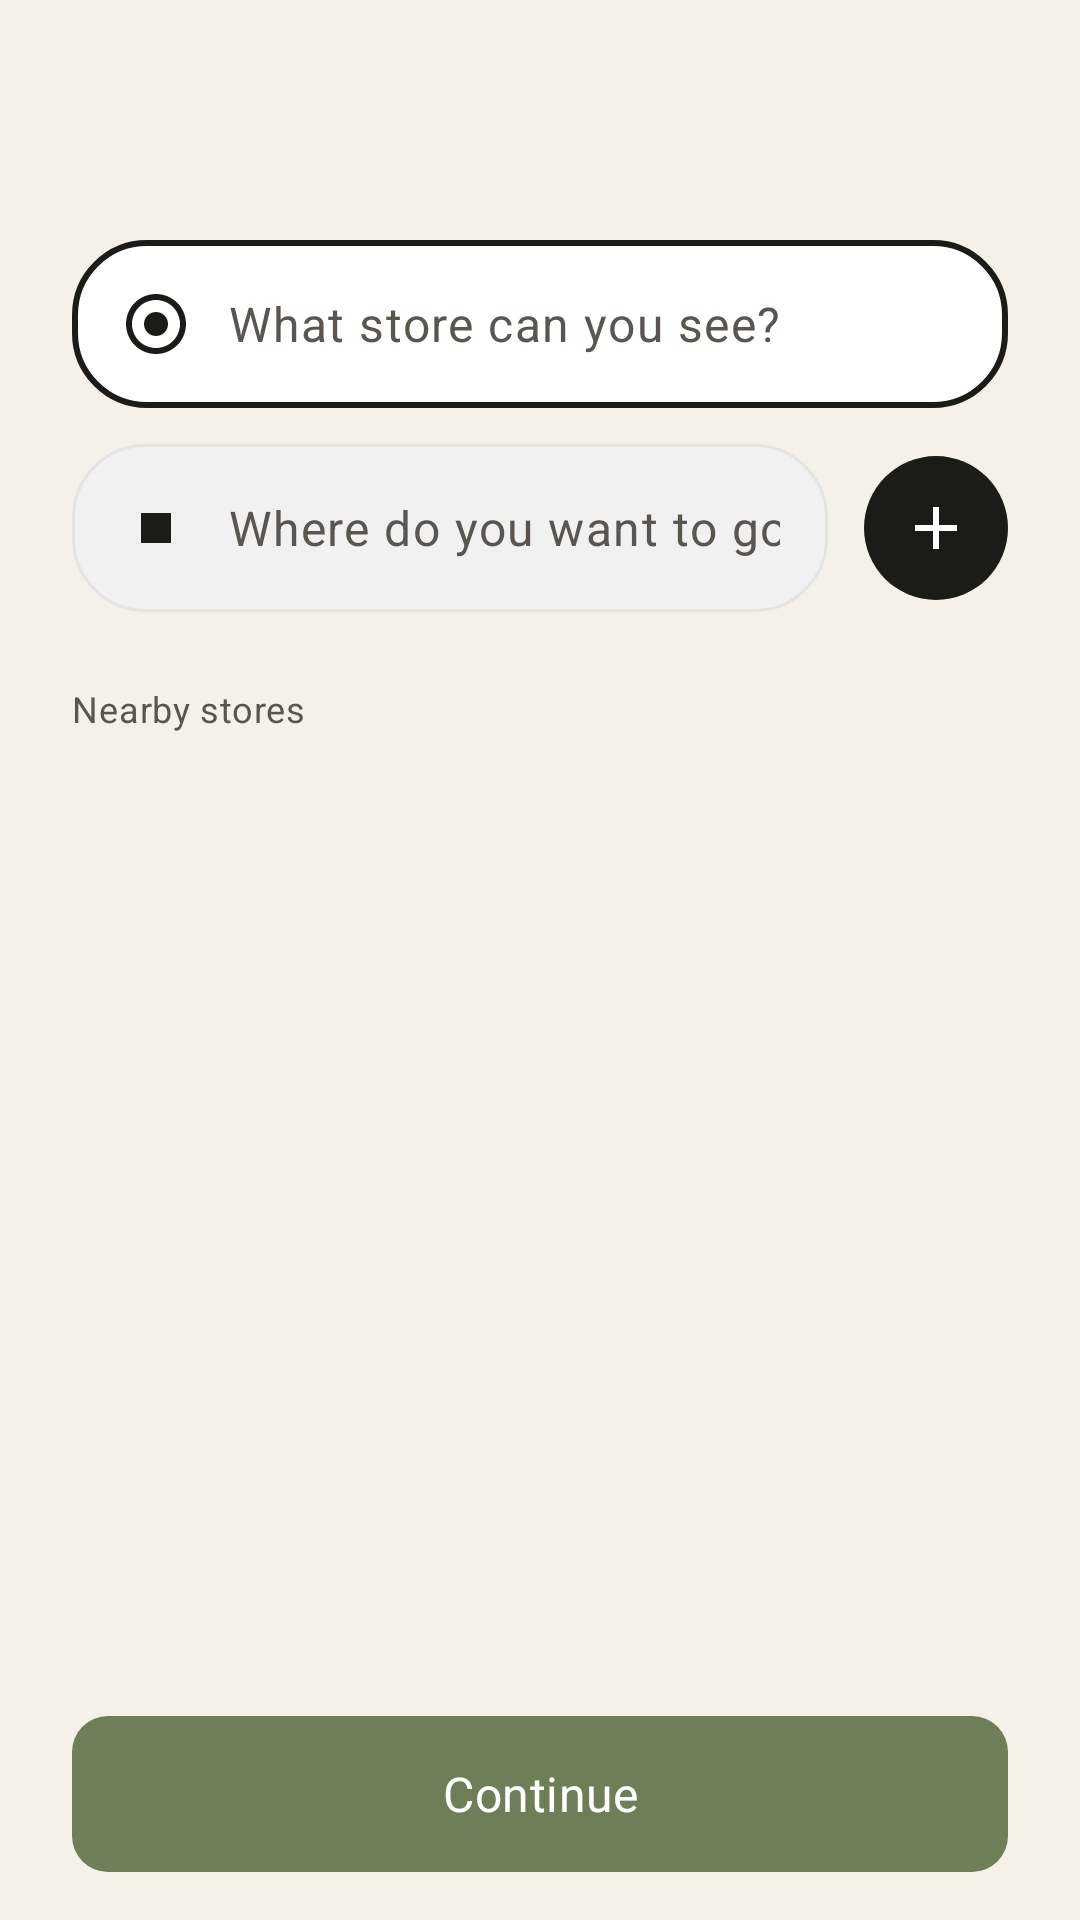

Screen size 1080×1920. Icon name, then its box in pixels as (x1, y1, x2, y2):
Add a stop: (864, 456, 1008, 600)
trip origin: (126, 294, 186, 354)
